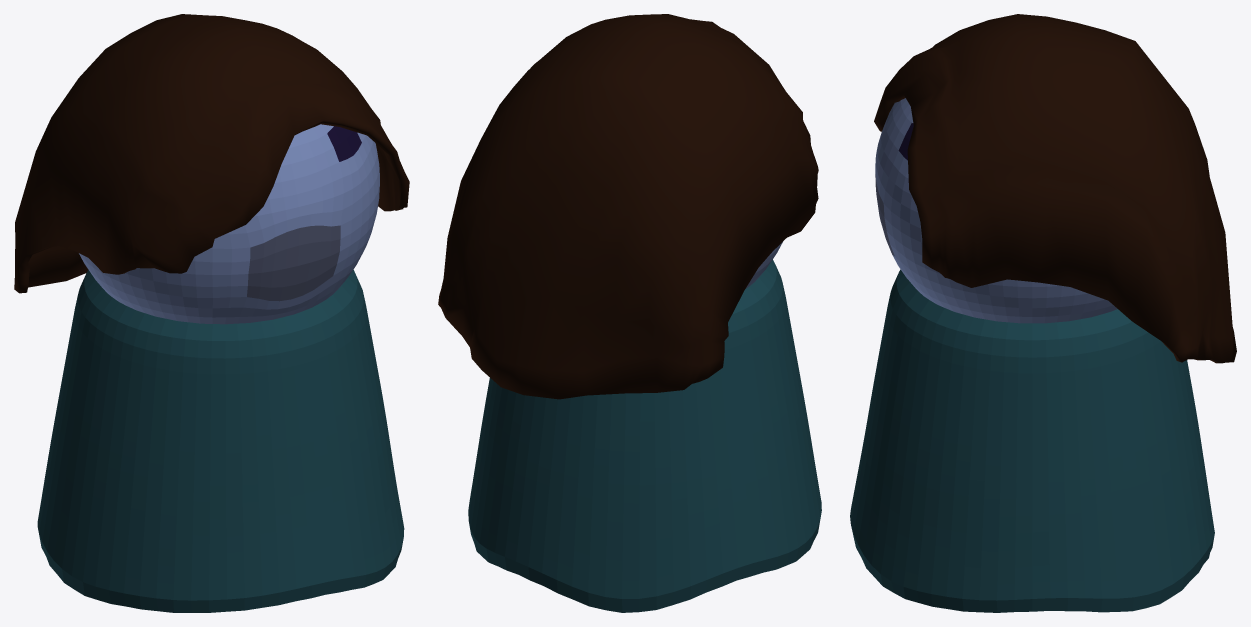
File: Banshee.fbx
3 views of the same model, side by side, from view 1: azimuth 30°, elevation 25°; view 2: azimuth 150°, elevation 25°; view 3: azimuth 270°, elevation 25° (orthographic). The views are drawn at different scales.
Parts seen in each view (by area): view 1: Body, Hair, Head; view 2: Hair, Body; view 3: Body, Hair, Head.
Boxes of the visible parts, x1=… form: Body: x1=37, y1=270, x2=404, y2=612; Hair: x1=14, y1=14, x2=409, y2=293; Head: x1=79, y1=124, x2=379, y2=324; Hair: x1=438, y1=14, x2=818, y2=399; Body: x1=468, y1=259, x2=821, y2=612; Body: x1=850, y1=269, x2=1214, y2=612; Hair: x1=874, y1=14, x2=1236, y2=363; Head: x1=875, y1=98, x2=1117, y2=323.
Size of the model in its own units: 227 by 368 by 241.
